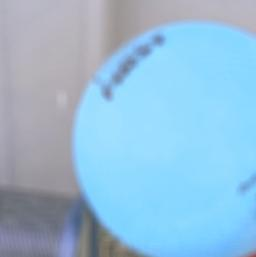algae: (74, 17, 256, 257)
